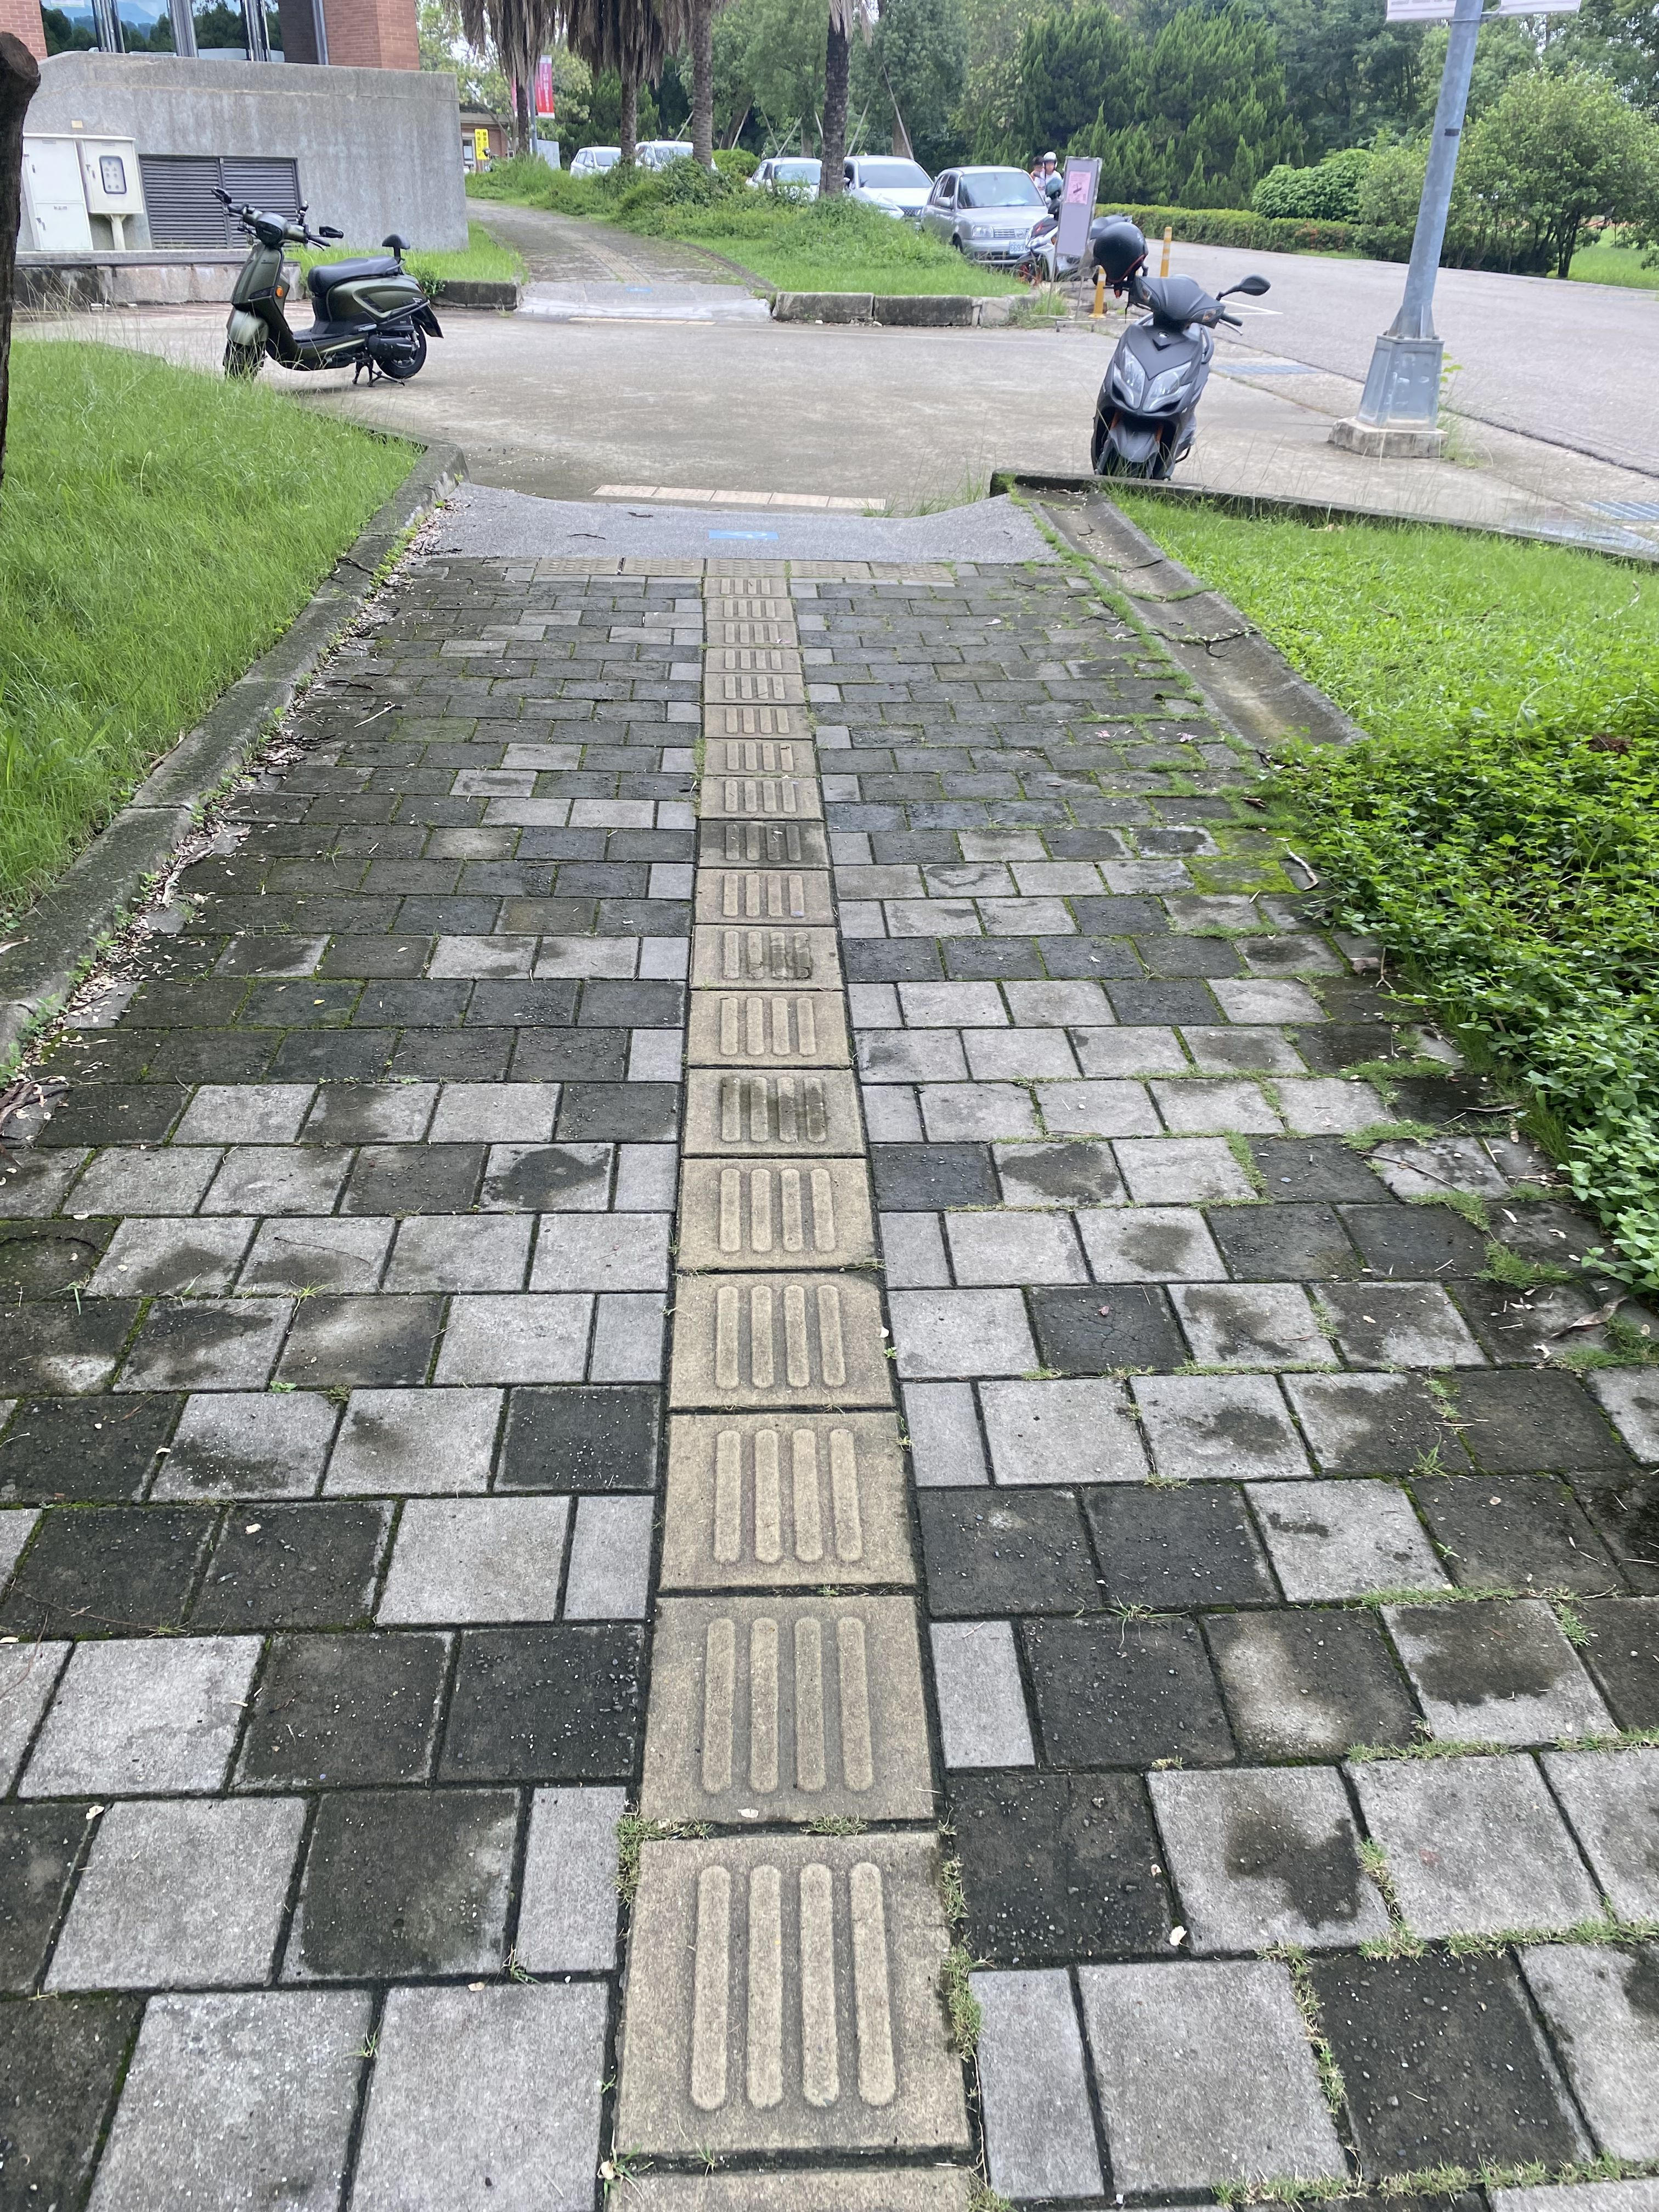0: (471, 181, 814, 343)
sidewalk: (0, 475, 1657, 2212)
